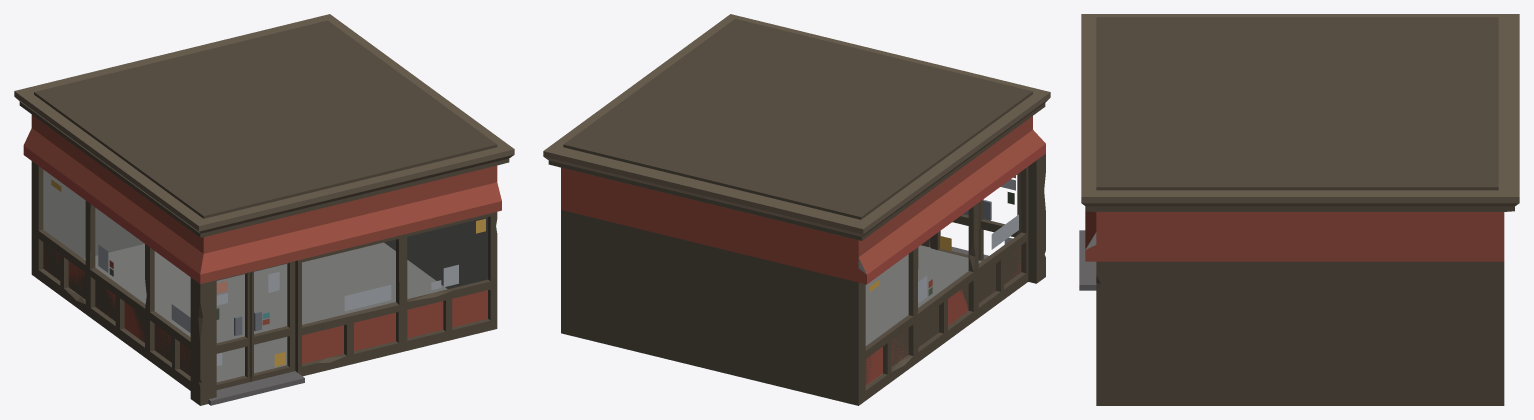
The model's file is shop_corner.glb.
3 views of the same model, side by side, from view 1: azimuth 30°, elevation 25°; view 2: azimuth 150°, elevation 25°; view 3: azimuth 270°, elevation 25° (orthographic). The views are drawn at different scales.
Visible parts, largest first — view 1: SM_Bld_Shop_Corner_01; view 2: SM_Bld_Shop_Corner_01; view 3: SM_Bld_Shop_Corner_01.
Boxes of the visible parts, bbox=[...] form: SM_Bld_Shop_Corner_01: bbox=[14, 14, 514, 405]; SM_Bld_Shop_Corner_01: bbox=[543, 14, 1050, 405]; SM_Bld_Shop_Corner_01: bbox=[1079, 14, 1519, 405].
Bounding box in the file's own units: 5.38 × 3 × 5.47.
Materials: 1 (1 with a texture image).
